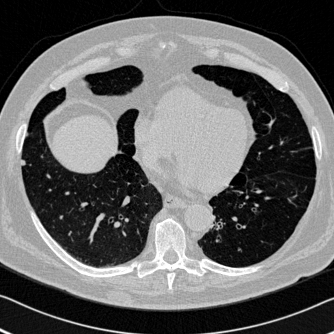nodule: (20, 160, 26, 166)
